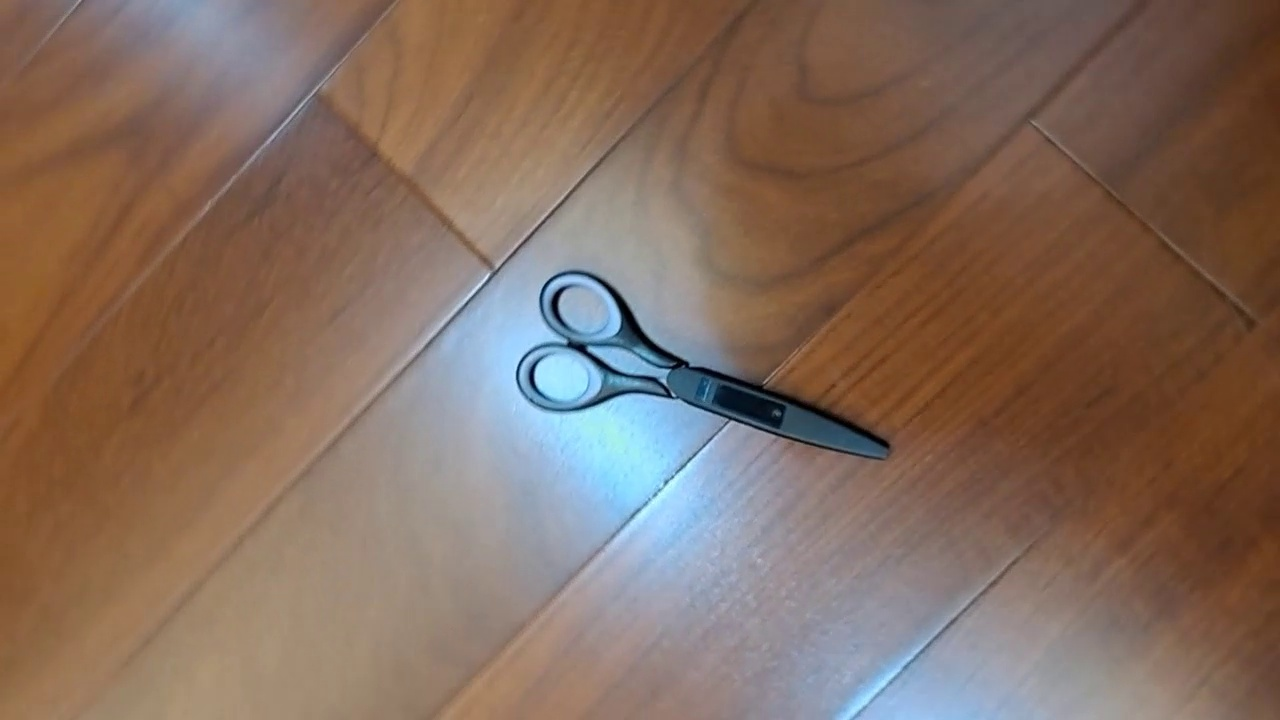scissors: (514, 268, 891, 462)
